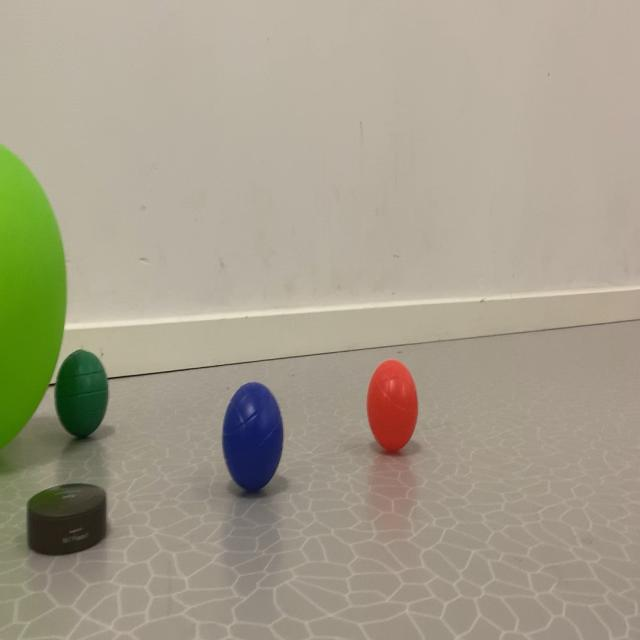7: (333, 344, 452, 489)
blue ball: (50, 317, 448, 499)
green ball: (208, 356, 296, 522)
red ball: (52, 326, 120, 486)
